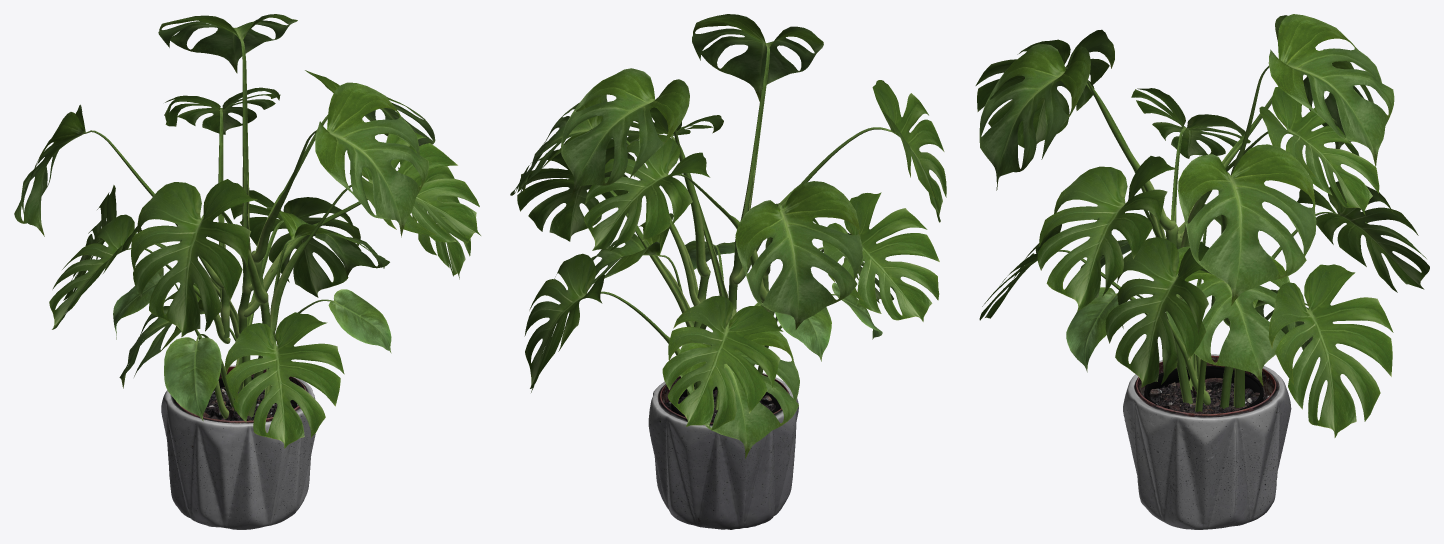
Rendered from vaso-future.glb.
3 renders of one model, left to right at view 1: azimuth 30°, elevation 25°; view 2: azimuth 150°, elevation 25°; view 3: azimuth 270°, elevation 25°, orthographic. The views are drawn at different scales.
Visible parts, largest first — view 1: Leaves; view 2: Leaves; view 3: Leaves.
Part boxes in pixels (x1=…): Leaves: x1=14, y1=14, x2=480, y2=529; Leaves: x1=510, y1=14, x2=946, y2=529; Leaves: x1=975, y1=14, x2=1429, y2=529.
Bounding box in the file's own units: 0.4443 × 0.4703 × 0.3948.
Materials: 3 (2 with a texture image).
